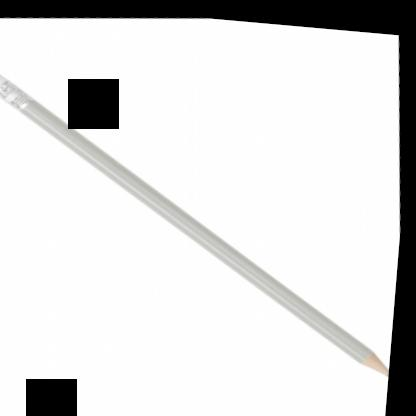pencil: (0, 67, 395, 371)
